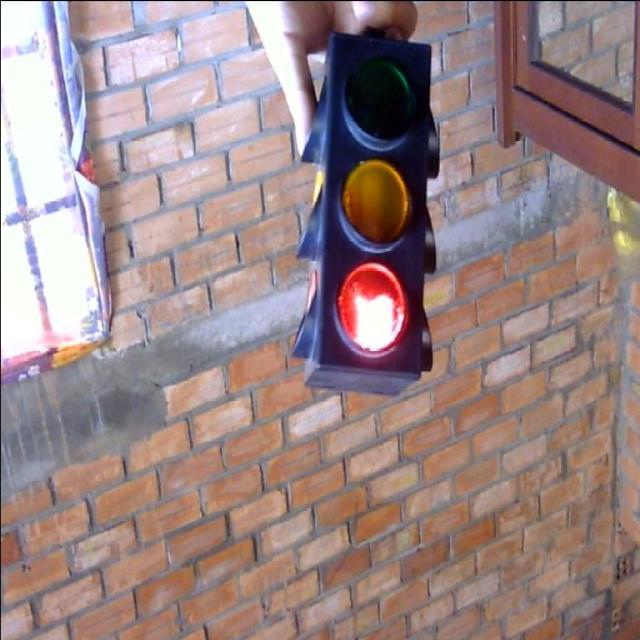red light: (328, 251, 416, 375)
